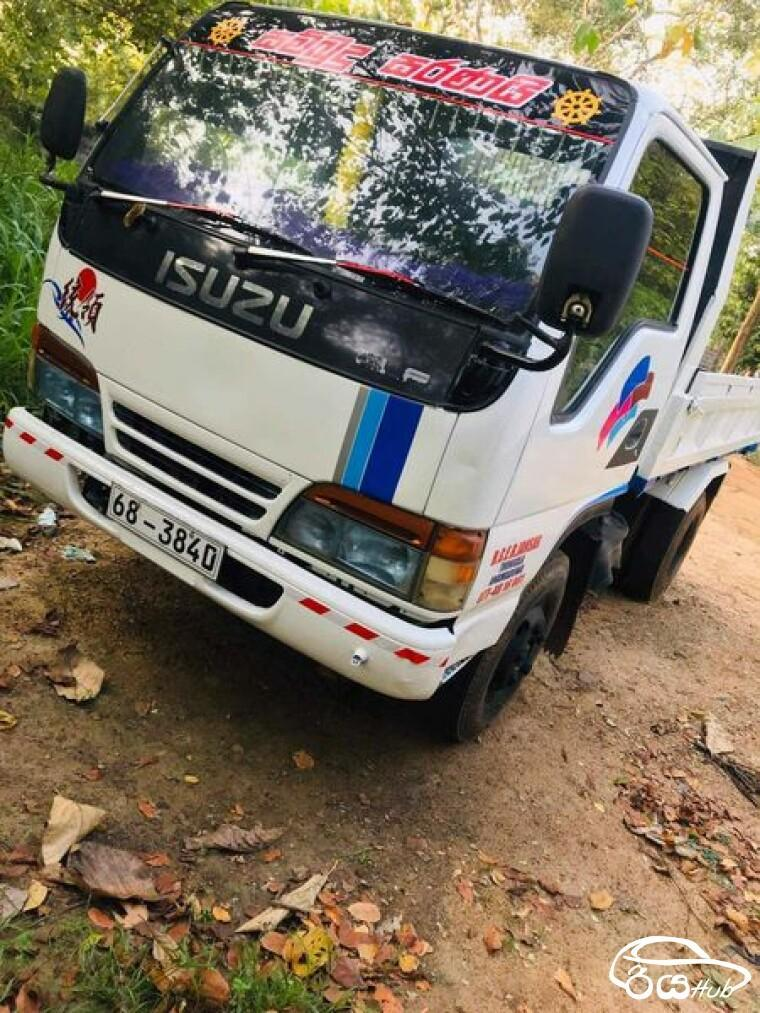truck: (2, 1, 760, 744)
